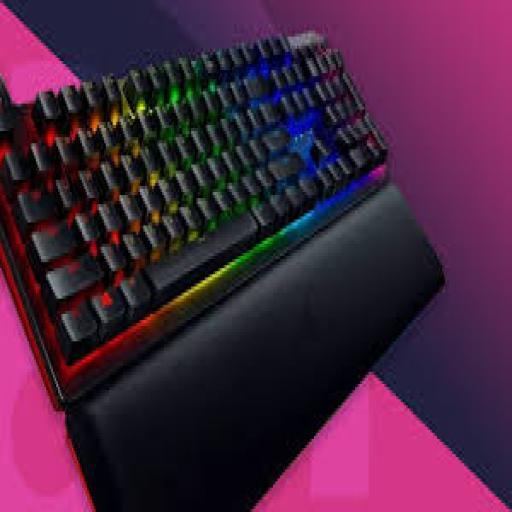keyboard: (0, 30, 442, 509)
